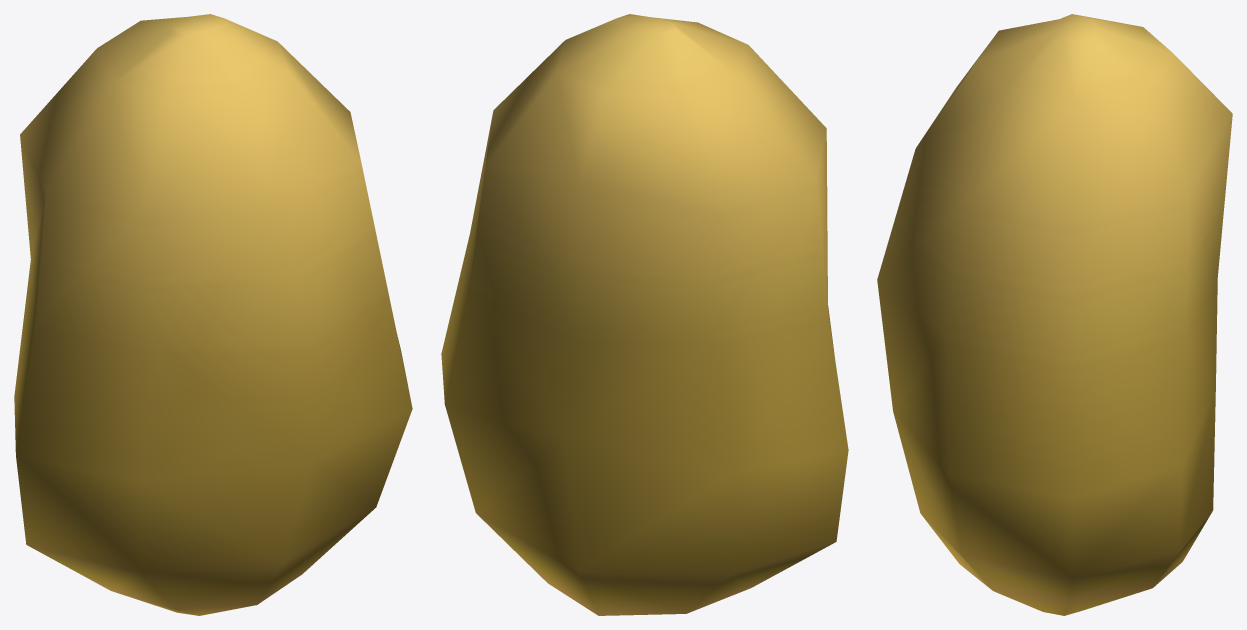
File: potato.glb
3 renders of one model, left to right at view 1: azimuth 30°, elevation 25°; view 2: azimuth 150°, elevation 25°; view 3: azimuth 270°, elevation 25°, orthographic. The views are drawn at different scales.
Visible parts, largest first — view 1: potato; view 2: potato; view 3: potato.
Part boxes in pixels (x1,y1,x2,y2): potato: (14, 14, 412, 615); potato: (441, 14, 848, 615); potato: (877, 14, 1232, 615).
Size of the model in its own units: 0.1482 by 0.2069 by 0.1167.
Materials: 1 (1 with a texture image).
